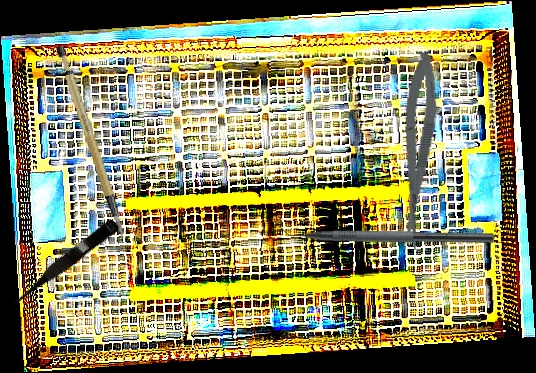Chopper: (270, 218, 495, 243)
Micro Scissor: (4, 215, 121, 312), (390, 50, 444, 252)
Scalpel Handle: (52, 40, 126, 243)
